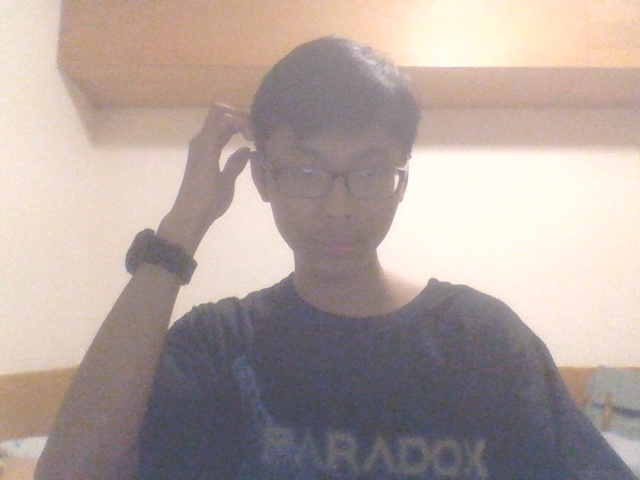human: (35, 35, 640, 480)
